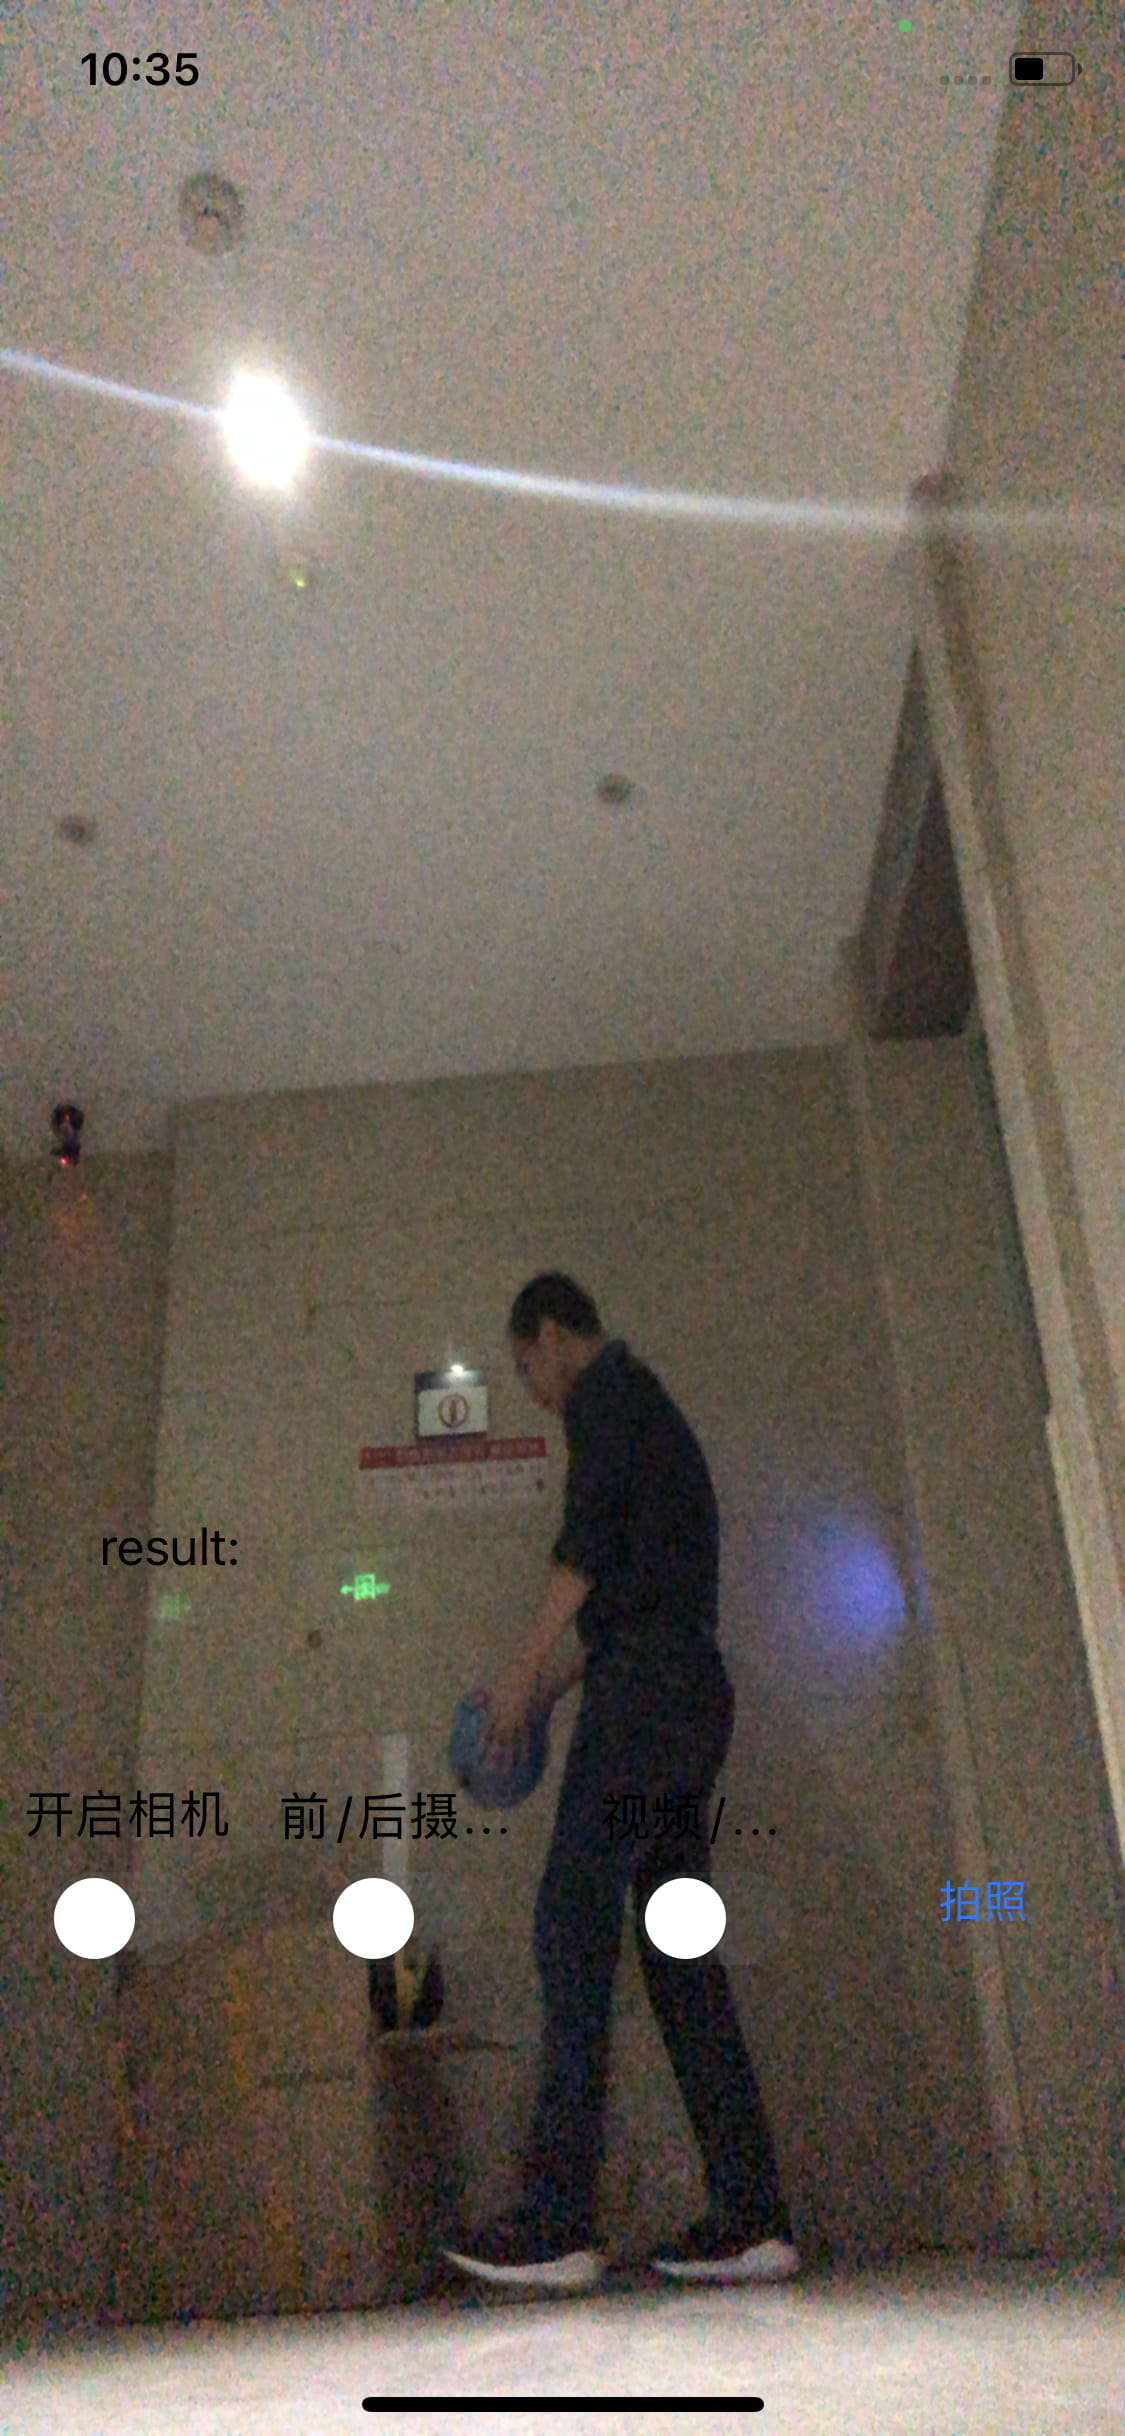ball: (443, 1686, 549, 1802)
